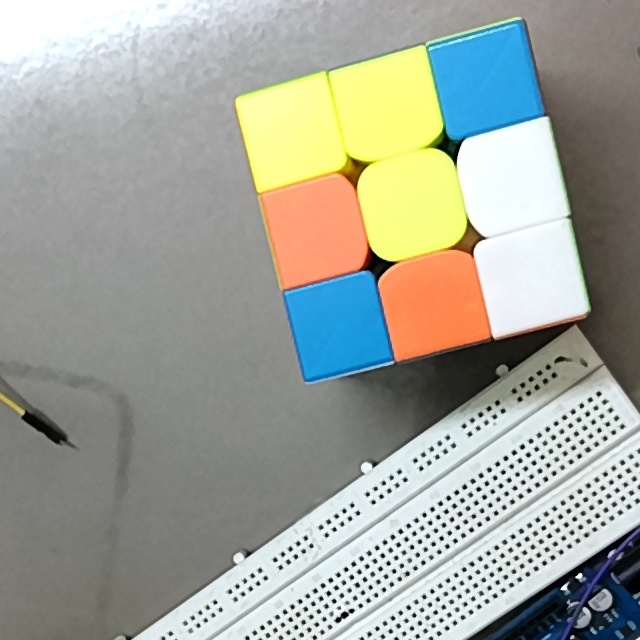tile: (472, 137, 552, 220), (277, 191, 354, 269), (395, 265, 471, 342), (495, 238, 570, 315), (450, 42, 524, 119), (377, 164, 446, 246), (352, 66, 425, 143), (259, 96, 331, 171), (305, 288, 376, 363)
